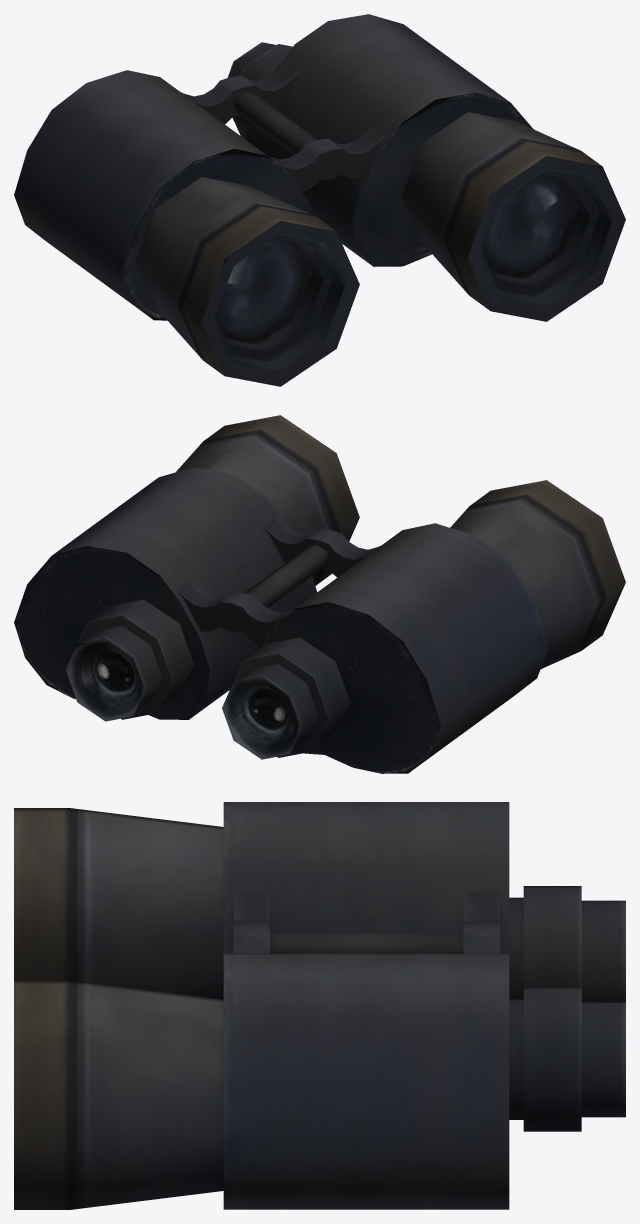
The model's file is Binoculars.FBX.
3 renders of one model, top to bottom at view 1: azimuth 30°, elevation 25°; view 2: azimuth 150°, elevation 25°; view 3: azimuth 270°, elevation 25°, orthographic. The views are drawn at different scales.
Parts seen in each view (by area): view 1: Binoculars; view 2: Binoculars; view 3: Binoculars.
Part boxes in pixels (<box>): Binoculars: <box>14,14,625,386</box>; Binoculars: <box>14,415,625,773</box>; Binoculars: <box>14,802,625,1209</box>.
Bounding box in the file's own units: 0.2094 × 0.0808 × 0.1953.
